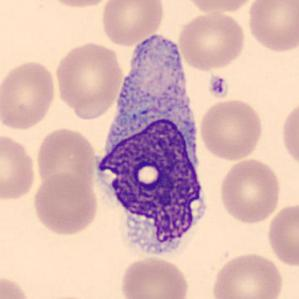Monocyte: (90, 32, 216, 267)
Platelets: (207, 74, 229, 99)
RBC: (52, 39, 126, 118), (33, 125, 98, 198), (30, 171, 100, 237), (216, 156, 282, 225), (176, 9, 248, 72), (198, 96, 265, 162), (0, 58, 58, 132), (209, 249, 285, 299), (117, 254, 191, 299), (98, 0, 166, 47), (245, 0, 298, 54), (0, 131, 38, 202), (265, 201, 298, 269), (279, 97, 299, 171), (179, 0, 262, 14), (0, 272, 33, 299), (42, 0, 118, 9)
